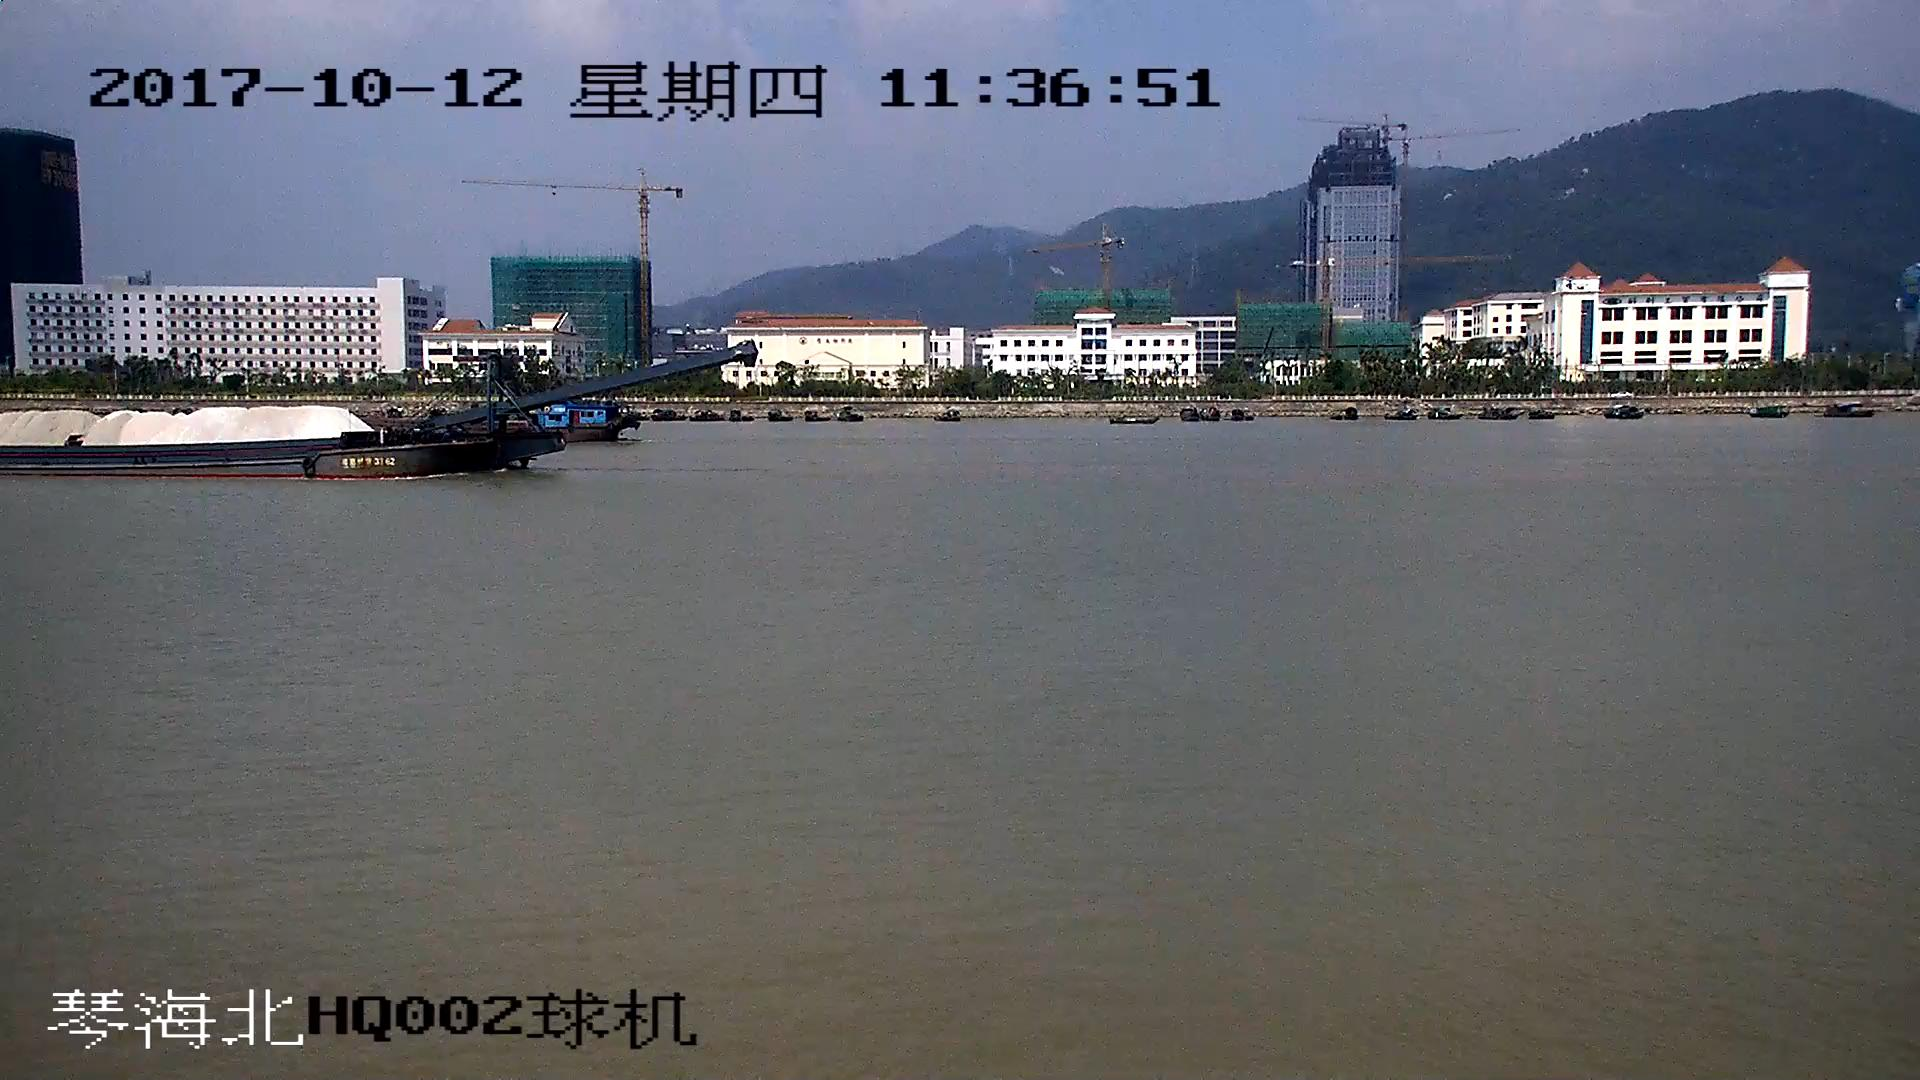ore carrier: (1, 345, 752, 483)
